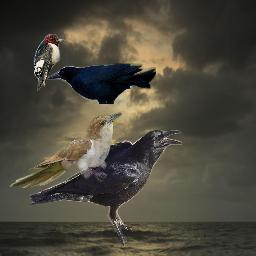Crow: (29, 129, 182, 248), (46, 63, 156, 104)
Cuckoo: (9, 112, 122, 188)
Woodpecker: (34, 34, 65, 91)
